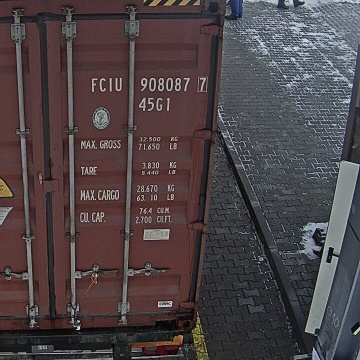serial_id: (91, 77, 206, 91)
